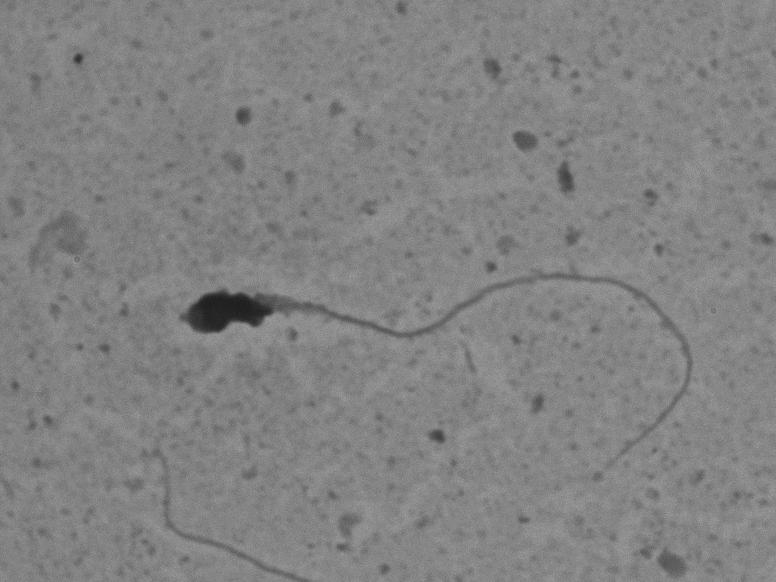Abnormal: (167, 206, 710, 506)
